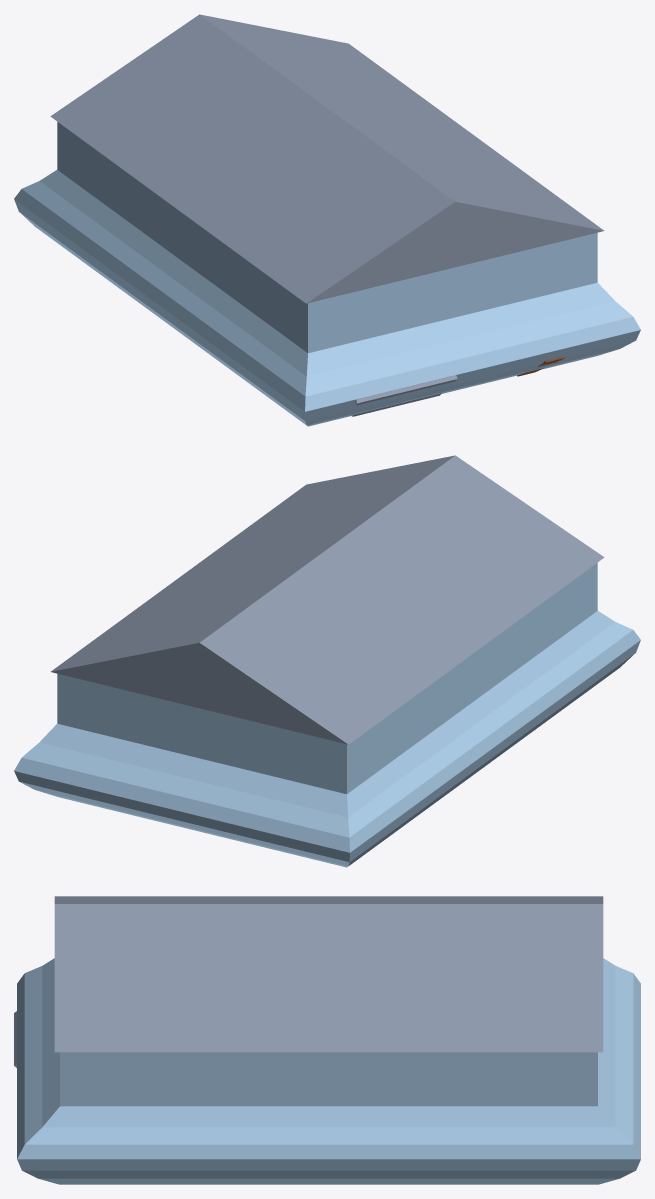
File: warehouse.glb
3 renders of one model, top to bottom at view 1: azimuth 30°, elevation 25°; view 2: azimuth 150°, elevation 25°; view 3: azimuth 270°, elevation 25°, orthographic. The views are drawn at different scales.
Parts seen in each view (by area): view 1: warehouse_metal, warehouse_wall_blue; view 2: warehouse_metal, warehouse_wall_blue; view 3: warehouse_wall_blue, warehouse_metal.
Part boxes in pixels (box(x1,y1,x2,y2)): warehouse_metal: box(50, 14, 604, 416); warehouse_wall_blue: box(14, 122, 640, 426); warehouse_metal: box(50, 455, 604, 744); warehouse_wall_blue: box(14, 563, 640, 867); warehouse_wall_blue: box(17, 958, 640, 1184); warehouse_metal: box(14, 896, 603, 1067).
Bounding box in the file's own units: 24.12 × 13.13 × 36.36.
